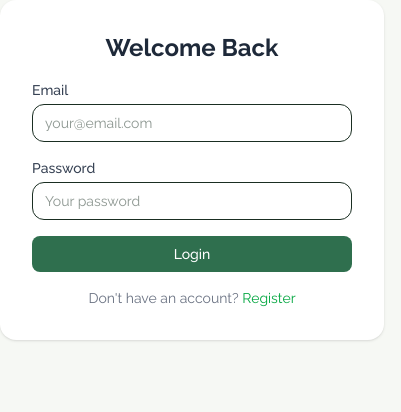
Scenario: LoginForm › shows error on wrong password
This screenshot has width=401, height=412.
Type "test@farm.com" into the field with placeholder "your@email.com" at (192, 123), box [32,104,352,142]
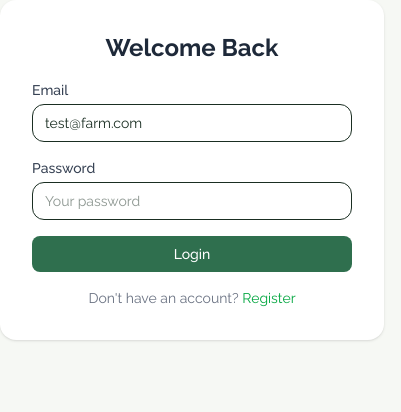
Type "wrongpass" into the password field with placeholder "Your password" at (192, 201), box [32,182,352,220]
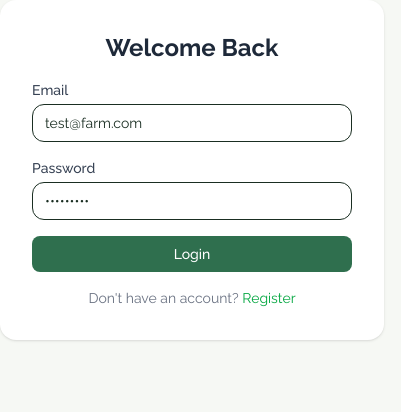
Click the button "Login" at (192, 254), box [32,236,352,272]
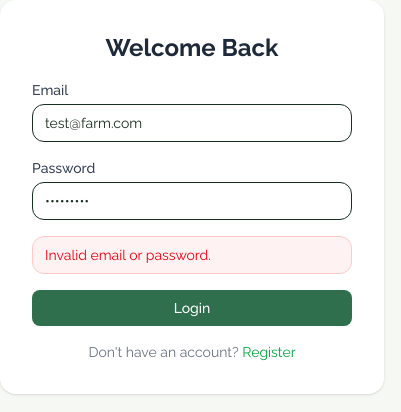
Check: the text "Invalid email or password." is shown, box [32,236,352,274]
